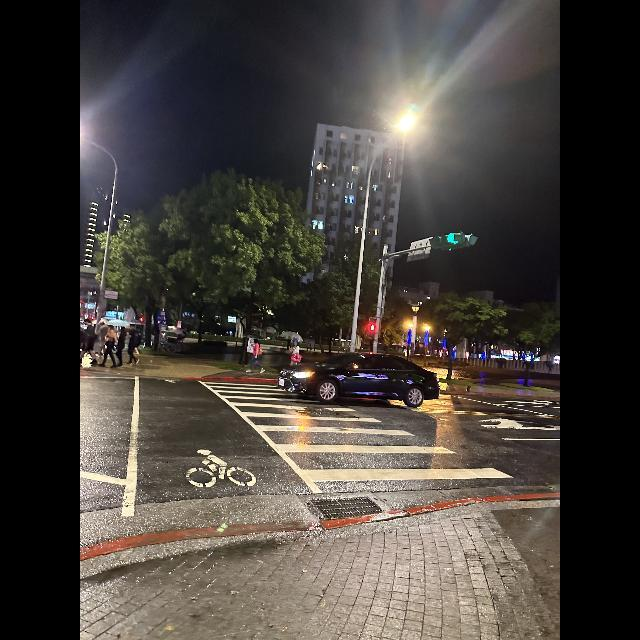sidewalk: (200, 381, 513, 481)
